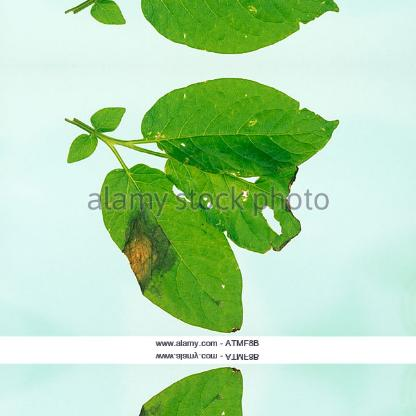Early-Blight: (100, 206, 256, 332), (100, 366, 256, 416)
